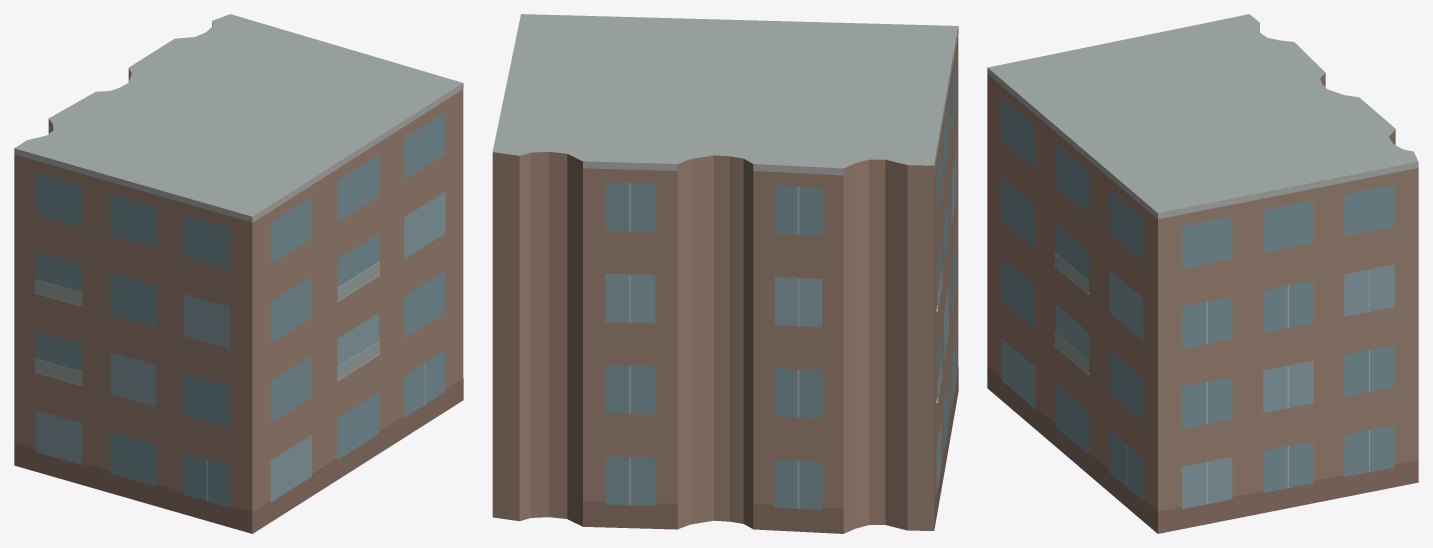
The model's file is survey-upis-32744147.glb.
3 views of the same model, side by side, from view 1: azimuth 30°, elevation 25°; view 2: azimuth 150°, elevation 25°; view 3: azimuth 270°, elevation 25° (orthographic). The views are drawn at different scales.
Parts seen in each view (by area): view 1: survey-upis-32744147.tmp; view 2: survey-upis-32744147.tmp; view 3: survey-upis-32744147.tmp.
Part boxes in pixels (<box>): survey-upis-32744147.tmp: <box>14,14,463,533</box>; survey-upis-32744147.tmp: <box>492,14,958,533</box>; survey-upis-32744147.tmp: <box>987,14,1418,533</box>.
Size of the model in its own units: 17.07 by 12.8 by 15.61.
